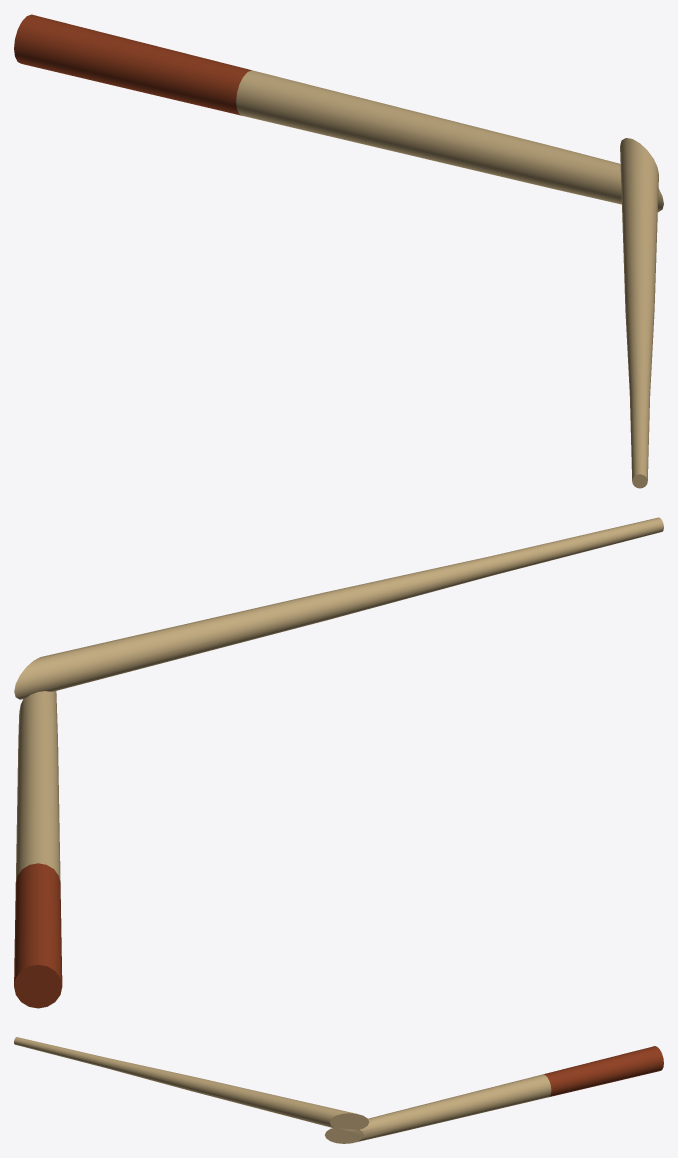
Rendered from chopstick1.fbx.
3 views of the same model, one above another, from view 1: azimuth 30°, elevation 25°; view 2: azimuth 150°, elevation 25°; view 3: azimuth 270°, elevation 25° (orthographic). The views are drawn at different scales.
Parts seen in each view (by area): view 1: 布尔_16; view 2: 布尔_16; view 3: 布尔_16.
Boxes of the visible parts, x1,y1,x2,y2 form: 布尔_16: (14,14,663,488); 布尔_16: (14,517,663,1008); 布尔_16: (14,1037,663,1143).
Bounding box in the file's own units: 30.13 × 5.7 × 100.
